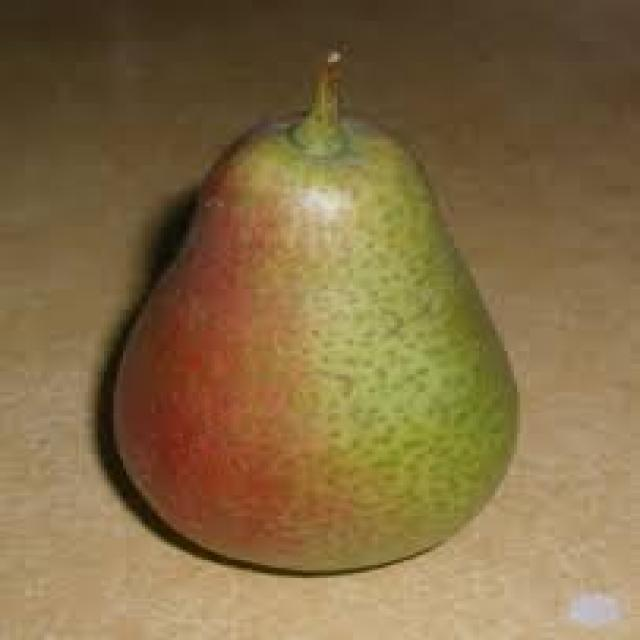organic waste: (98, 54, 523, 576)
